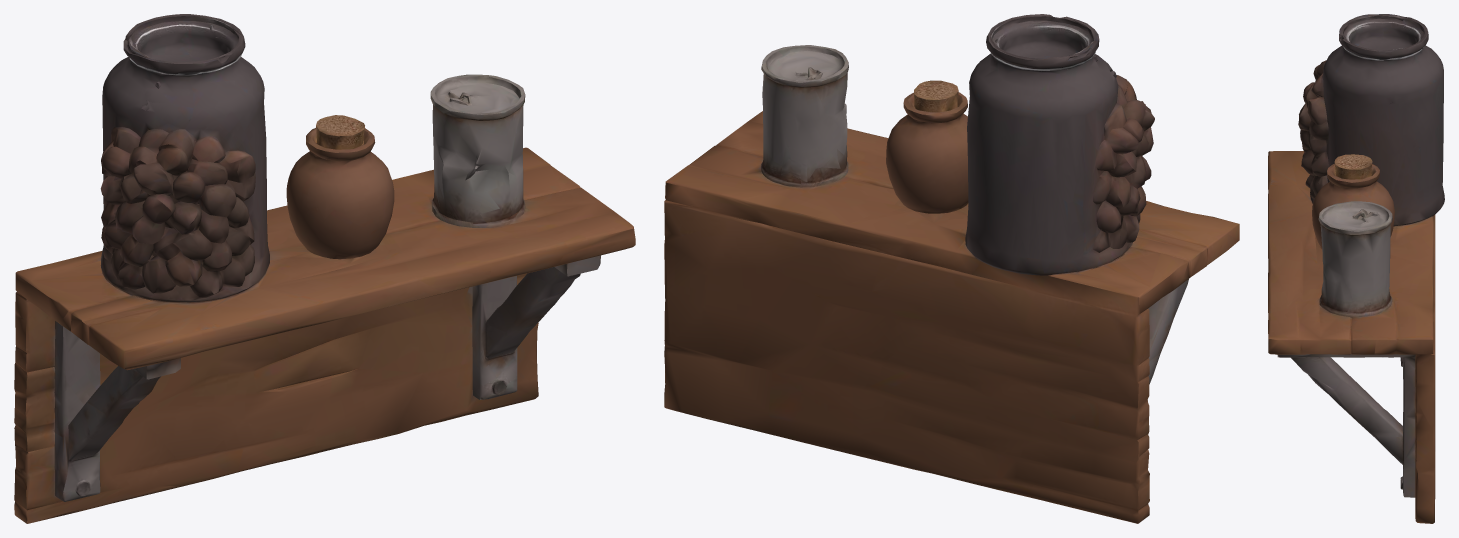
Rendered from shelf_wood_derevyannaya_idle.glb.
The picture shows the model from 3 angles, left to right: view 1: azimuth 30°, elevation 25°; view 2: azimuth 150°, elevation 25°; view 3: azimuth 270°, elevation 25°; orthographic projection. The views are drawn at different scales.
Visible parts, largest first — view 1: tripo_node_c2a49a0a-211d-4382-aaf8-af0fb690f3a2; view 2: tripo_node_c2a49a0a-211d-4382-aaf8-af0fb690f3a2; view 3: tripo_node_c2a49a0a-211d-4382-aaf8-af0fb690f3a2.
Boxes of the visible parts, x1=… form: tripo_node_c2a49a0a-211d-4382-aaf8-af0fb690f3a2: x1=14, y1=14, x2=635, y2=523; tripo_node_c2a49a0a-211d-4382-aaf8-af0fb690f3a2: x1=664, y1=14, x2=1239, y2=523; tripo_node_c2a49a0a-211d-4382-aaf8-af0fb690f3a2: x1=1268, y1=14, x2=1444, y2=523.
Size of the model in its own units: 0.9995 by 0.8731 by 0.3954.
Materials: 1 (1 with a texture image).
